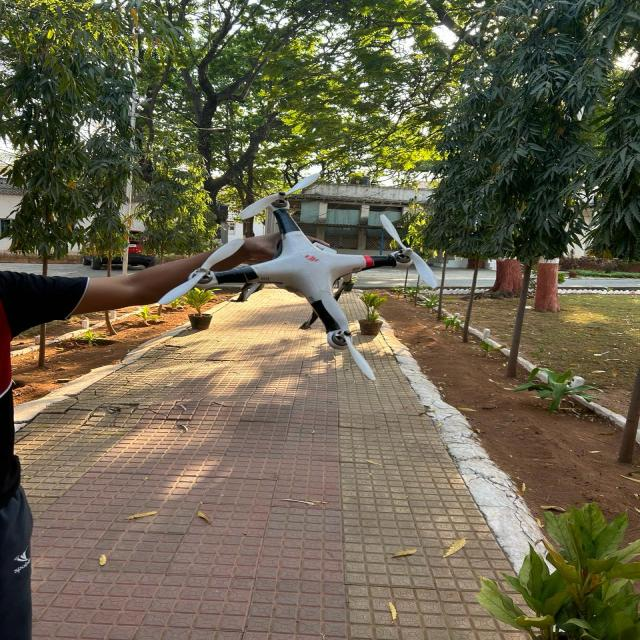drone: (138, 156, 469, 382)
